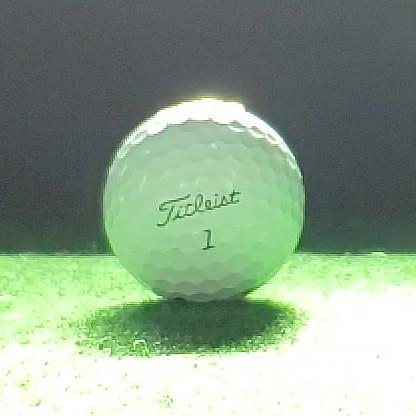golfball: (104, 99, 305, 303)
